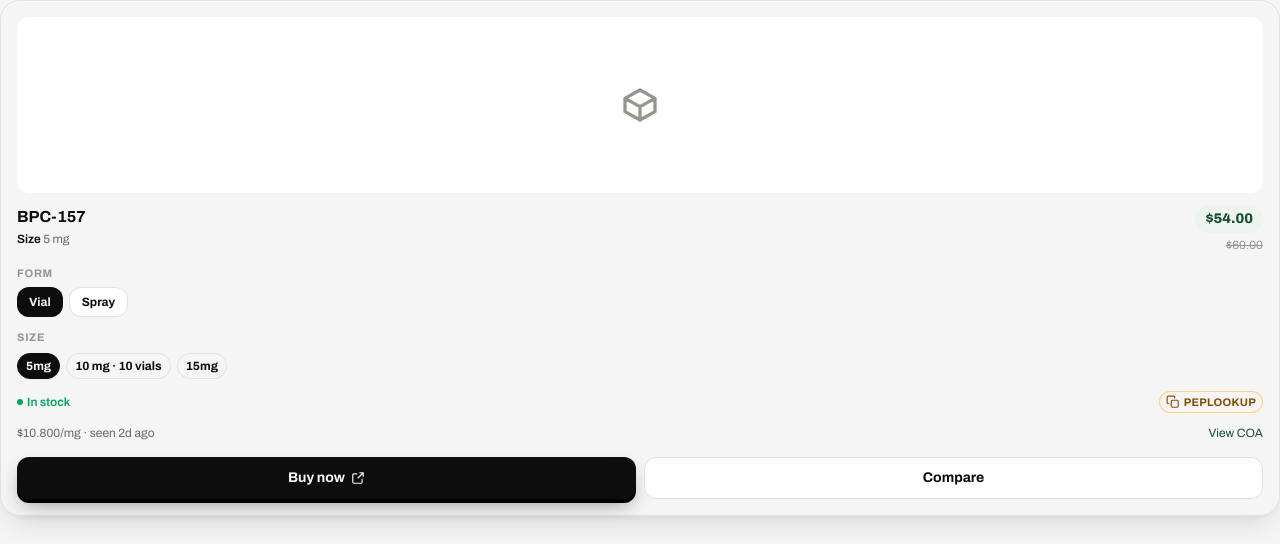
it: OfferVariantCard › switches form and shows only that form’s sizes
This screenshot has width=1280, height=544.
Step 1. Click the button "Spray" → [98, 302], box [69,287,128,317]
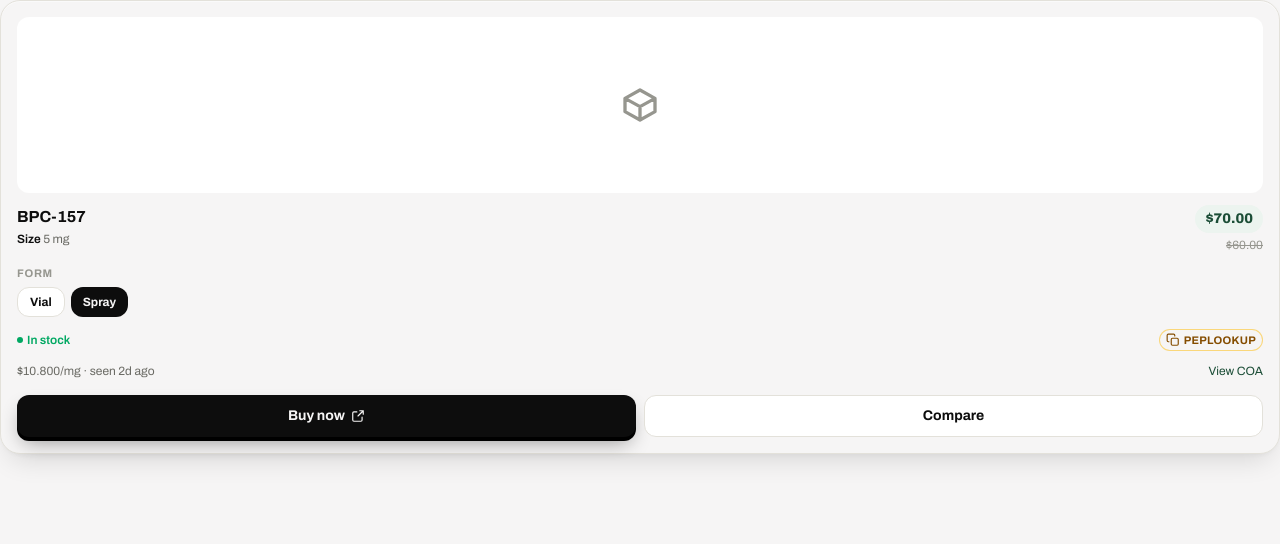
Expected: the text "$70.00" is shown, [1195,205,1263,233]
